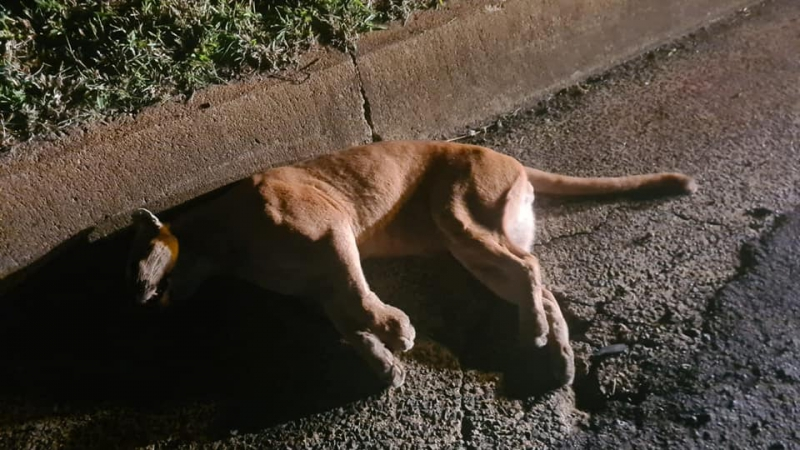OncaParda: (119, 132, 702, 390)
